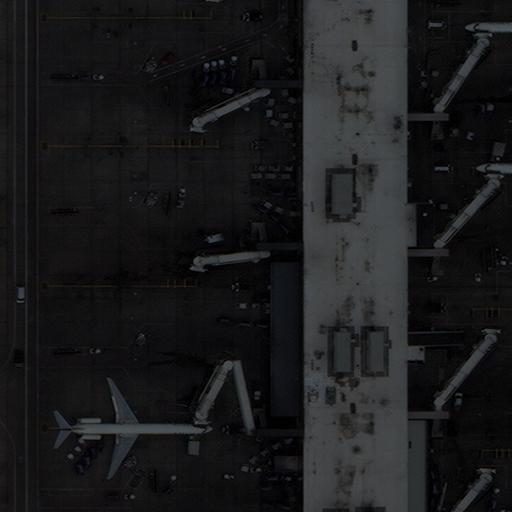Medium Civil Transport: (47, 378, 217, 479), (460, 3, 511, 49)
